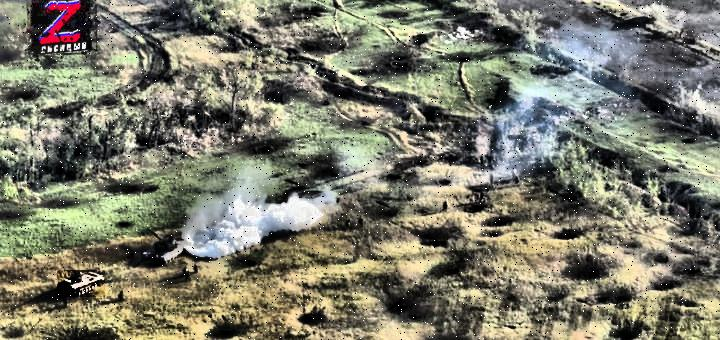military-vehicle: (142, 228, 187, 266), (57, 271, 105, 298)
